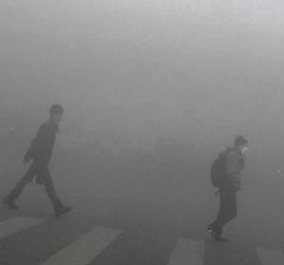person: (4, 101, 76, 216), (206, 134, 253, 239)
